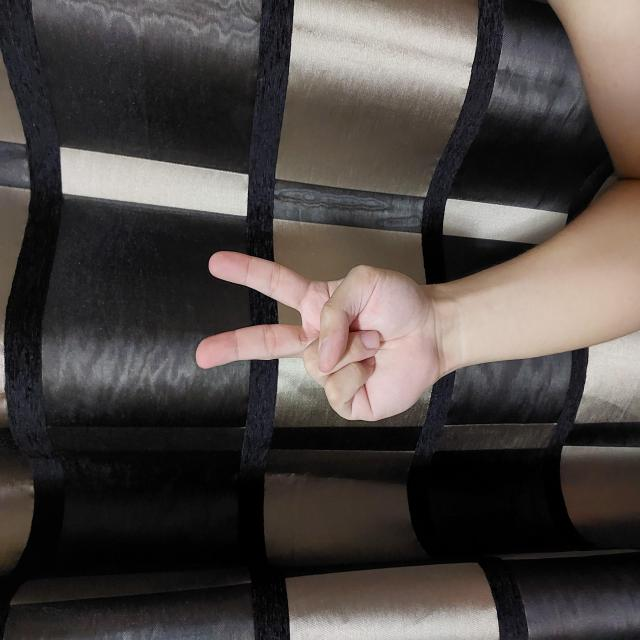V: (217, 194, 391, 439)
